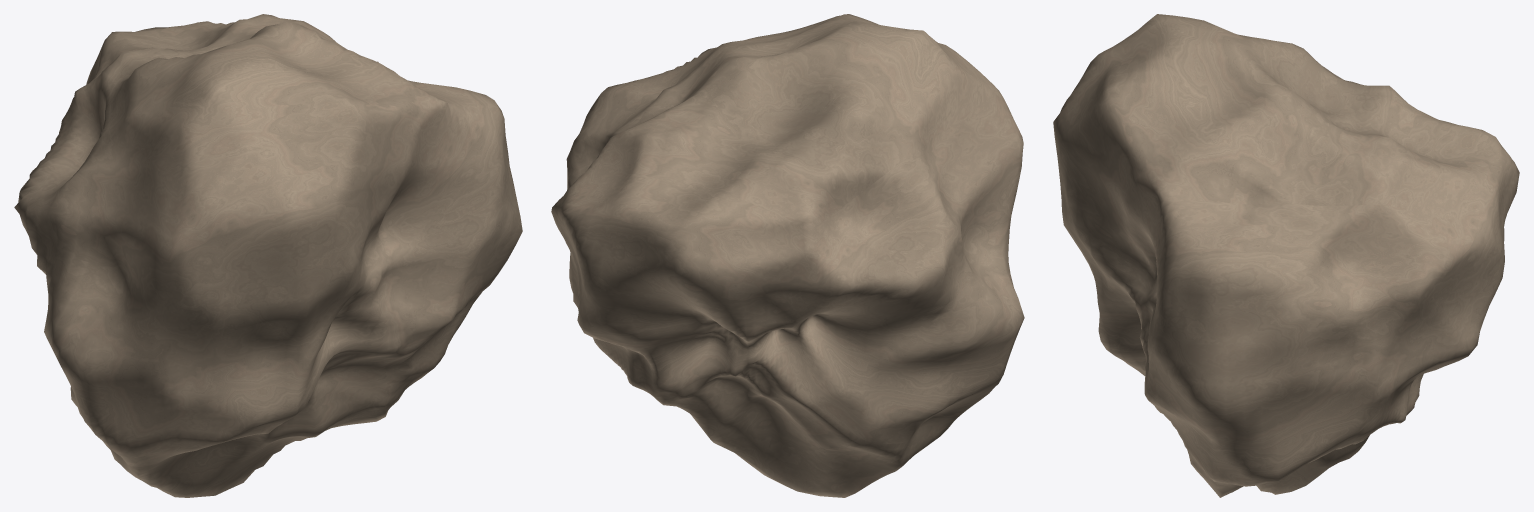
File: boulder1.fbx
The picture shows the model from 3 angles, left to right: view 1: azimuth 30°, elevation 25°; view 2: azimuth 150°, elevation 25°; view 3: azimuth 270°, elevation 25°; orthographic projection. The views are drawn at different scales.
Parts seen in each view (by area): view 1: cube.sphere.32; view 2: cube.sphere.32; view 3: cube.sphere.32.
Part boxes in pixels (x1,y1,x2,y2): cube.sphere.32: (14,14,522,497); cube.sphere.32: (551,14,1024,497); cube.sphere.32: (1053,14,1519,497).
Size of the model in its own units: 128 by 125 by 117.
